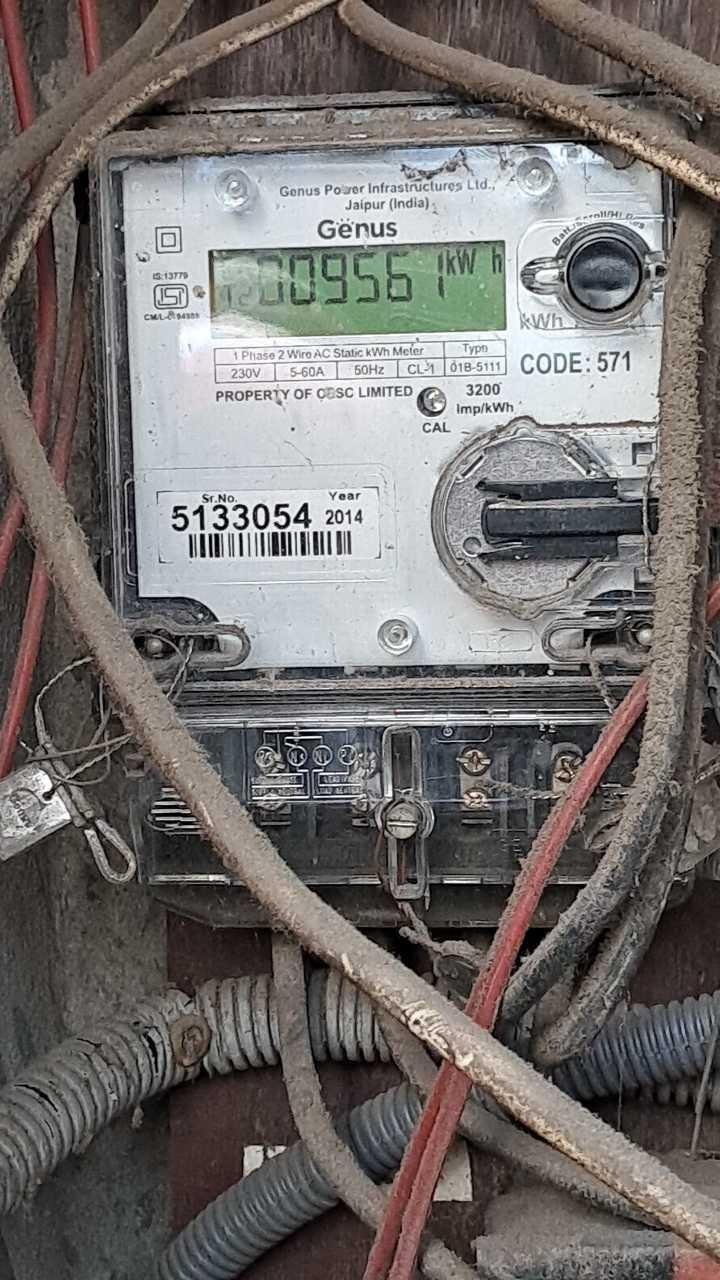meter_readings: (247, 247, 431, 309)
serial_number: (167, 505, 314, 531)
